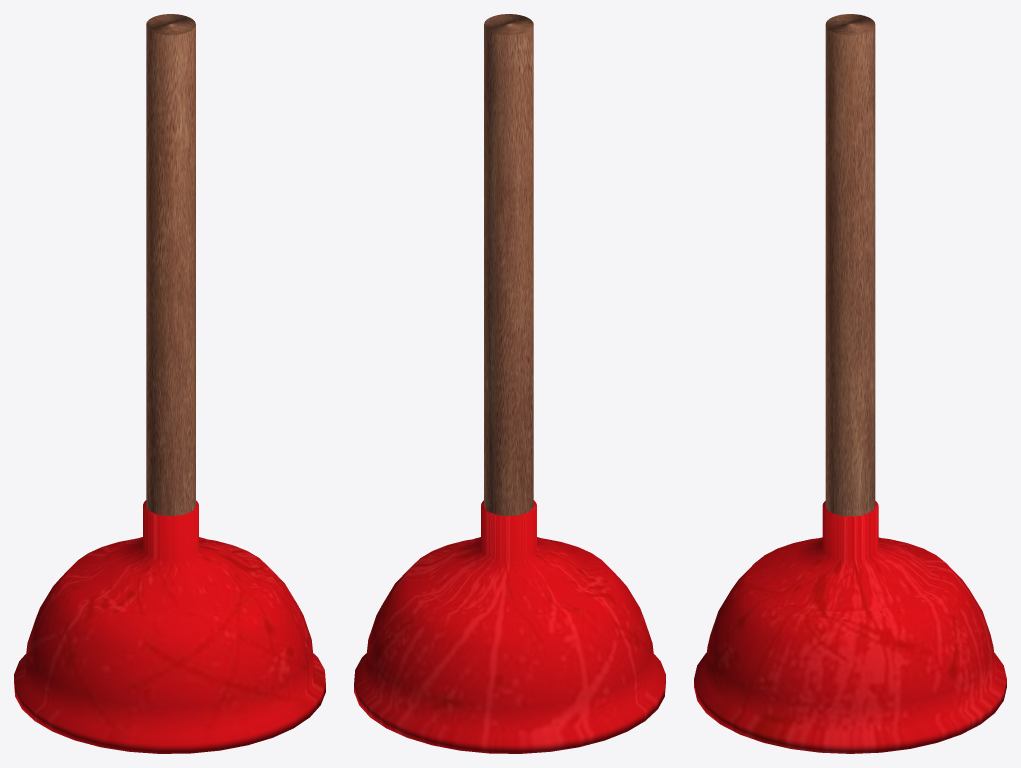
Rendered from destapador.obj.
3 views of the same model, side by side, from view 1: azimuth 30°, elevation 25°; view 2: azimuth 150°, elevation 25°; view 3: azimuth 270°, elevation 25° (orthographic).
Visible parts, largest first — view 1: Esfera, Cilindro; view 2: Esfera, Cilindro; view 3: Esfera, Cilindro.
Part boxes in pixels (box(x1,y1,x2,y2)): Esfera: box(14, 500, 325, 753); Cilindro: box(146, 14, 195, 515); Esfera: box(354, 500, 665, 753); Cilindro: box(484, 14, 533, 515); Esfera: box(694, 501, 1006, 753); Cilindro: box(825, 14, 875, 516).
Bounding box in the file's own units: 2.14 × 5.02 × 2.14.
2 materials, 2 textured.
